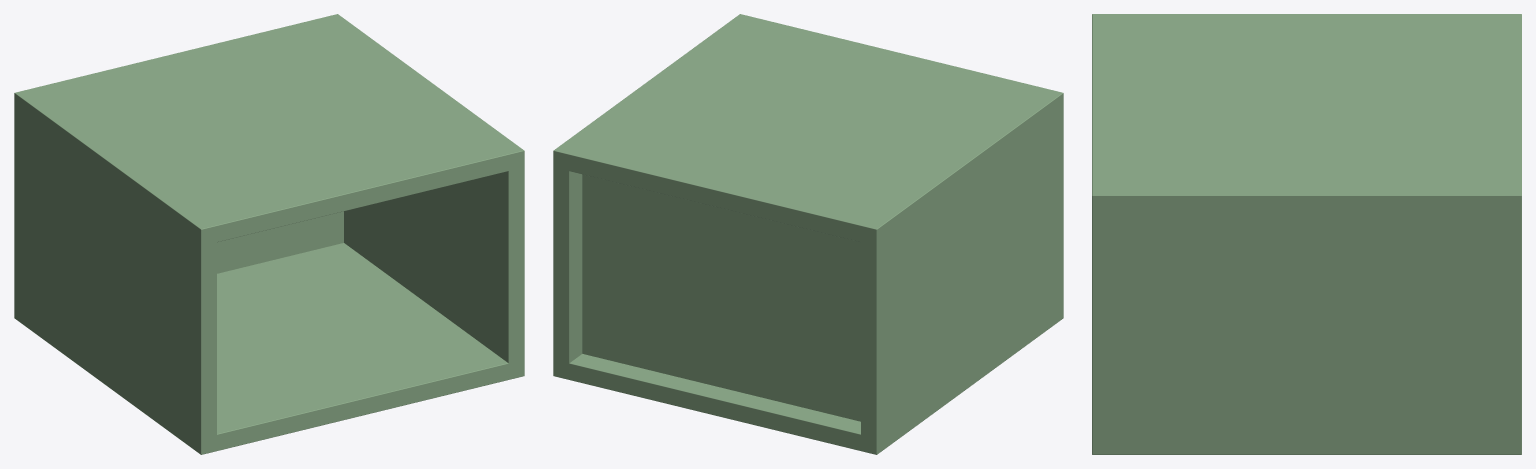
File: MOD-1X07-A-B-SA.glb
The picture shows the model from 3 angles, left to right: view 1: azimuth 30°, elevation 25°; view 2: azimuth 150°, elevation 25°; view 3: azimuth 270°, elevation 25°; orthographic projection. The views are drawn at different scales.
Bounding box in the file's own units: 360 × 240 × 360.
